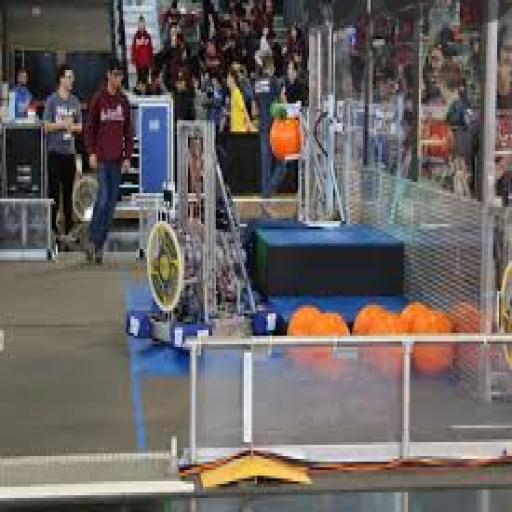robot: (123, 118, 275, 352), (278, 20, 360, 274)
